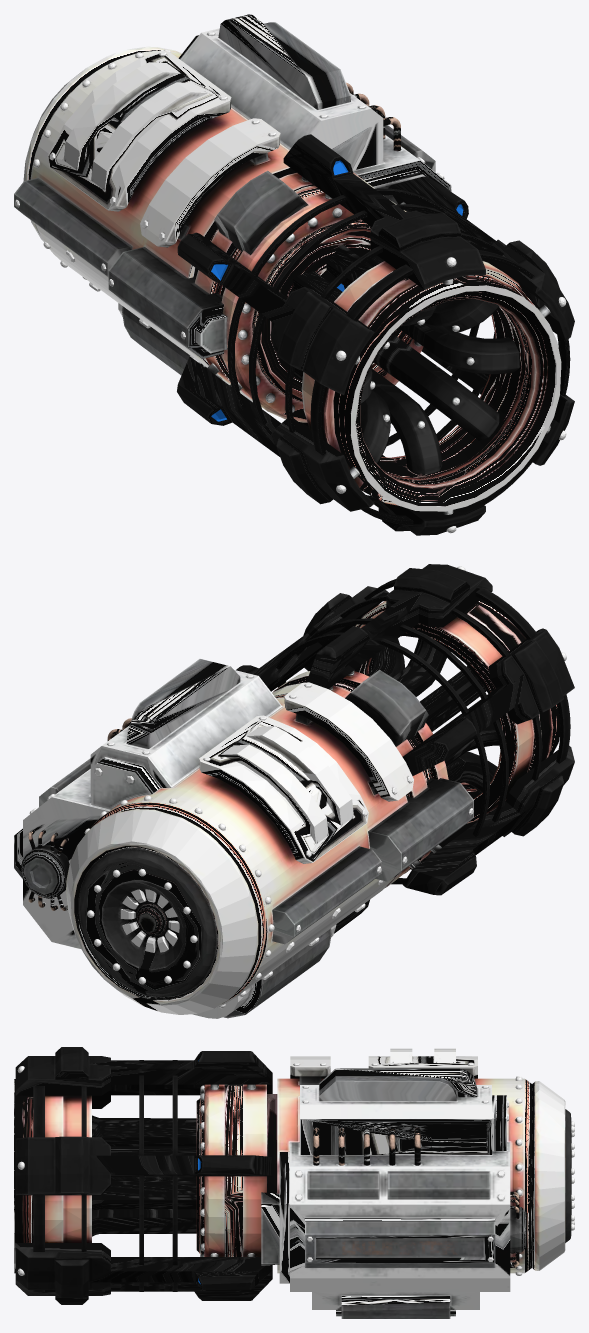
The model's file is thermal_power_plant.glb.
3 renders of one model, top to bottom at view 1: azimuth 30°, elevation 25°; view 2: azimuth 150°, elevation 25°; view 3: azimuth 270°, elevation 25°, orthographic. The views are drawn at different scales.
Visible parts, largest first — view 1: 1.001_K_0, 1.001_A_0, 1.001_C_0, 1.001_B_0, 1.001_G_0, 1.001_E_0, 1.001_F_0; view 2: 1.001_K_0, 1.001_G_0, 1.001_C_0, 1.001_B_0, 1.001_A_0, 1.001_E_0, 1.001_F_0; view 3: 1.001_K_0, 1.001_C_0, 1.001_A_0, 1.001_B_0, 1.001_G_0, 1.001_E_0, 1.001_F_0, 1.001_42_0.
Part boxes in pixels (left/top/right/bottom): 1.001_K_0: left=14, top=14, right=451, bottom=402; 1.001_A_0: left=195, top=173, right=561, bottom=511; 1.001_C_0: left=177, top=134, right=574, bottom=535; 1.001_B_0: left=227, top=188, right=570, bottom=525; 1.001_G_0: left=23, top=46, right=365, bottom=376; 1.001_E_0: left=15, top=31, right=550, bottom=514; 1.001_F_0: left=33, top=49, right=566, bottom=533; 1.001_K_0: left=14, top=659, right=473, bottom=1018; 1.001_G_0: left=66, top=697, right=407, bottom=1014; 1.001_C_0: left=236, top=564, right=574, bottom=933; 1.001_B_0: left=275, top=578, right=570, bottom=884; 1.001_A_0: left=272, top=599, right=560, bottom=888; 1.001_E_0: left=28, top=670, right=511, bottom=979; 1.001_F_0: left=84, top=566, right=566, bottom=1008; 1.001_K_0: left=225, top=1048, right=527, bottom=1318; 1.001_C_0: left=15, top=1047, right=272, bottom=1304; 1.001_A_0: left=14, top=1079, right=277, bottom=1273; 1.001_B_0: left=33, top=1060, right=196, bottom=1291; 1.001_G_0: left=277, top=1078, right=571, bottom=1273; 1.001_E_0: left=210, top=1062, right=519, bottom=1316; 1.001_F_0: left=17, top=1066, right=574, bottom=1275; 1.001_42_0: left=342, top=1241, right=456, bottom=1254.
Size of the model in its own units: 0.5412 by 0.4953 by 1.
9 materials, 8 textured.
